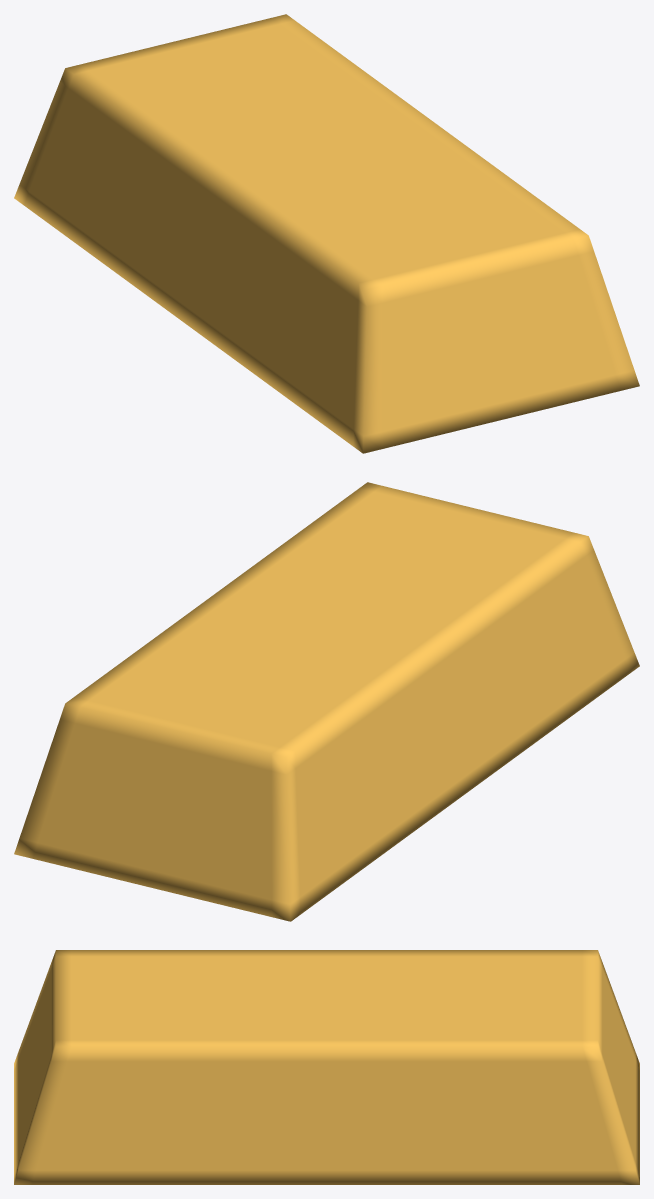
Rendered from gold.glb.
The picture shows the model from 3 angles, top to bottom: view 1: azimuth 30°, elevation 25°; view 2: azimuth 150°, elevation 25°; view 3: azimuth 270°, elevation 25°; orthographic projection. The views are drawn at different scales.
Parts seen in each view (by area): view 1: Object_2; view 2: Object_2; view 3: Object_2.
Boxes of the visible parts, box(x1,y1,x2,y2) form: Object_2: box(14, 14, 639, 453); Object_2: box(14, 482, 639, 921); Object_2: box(14, 950, 639, 1184).
Size of the model in its own units: 6.32 by 3.06 by 13.81.
Materials: 1 (1 with a texture image).
